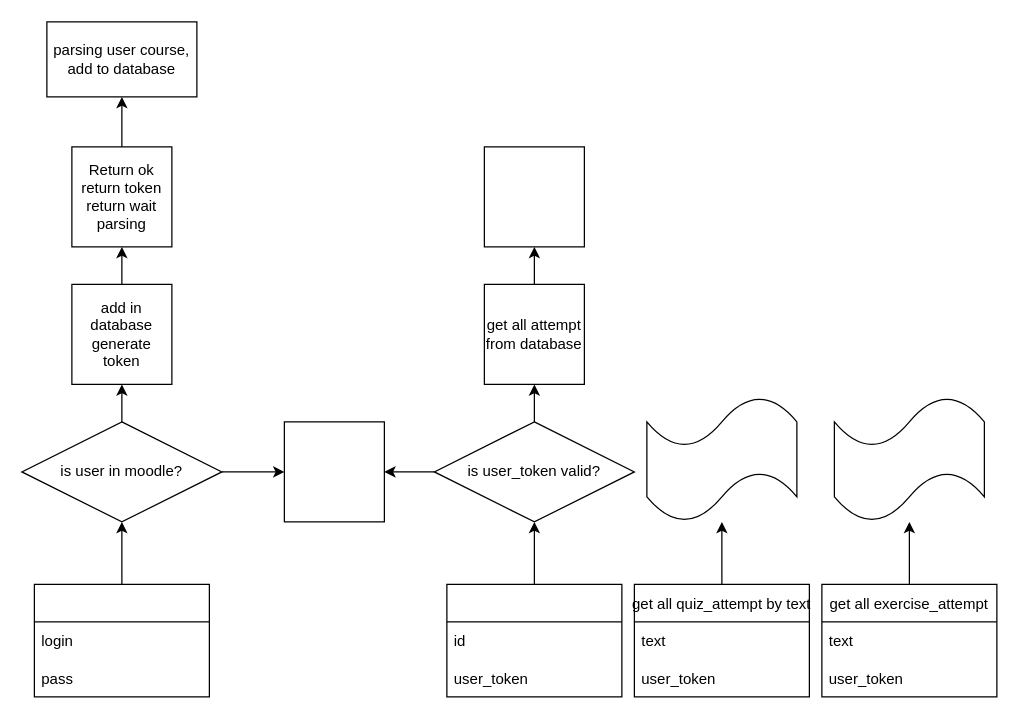
Some shapes in this 1019 by 719 pixel diagram are drawn without their labels. Here are the shapes that lost their labels. From the top down, the box of each, then its label:
(483, 146, 584, 247): return all attempt
(283, 421, 384, 522): nahui idi
(33, 583, 209, 697): post authorization
(446, 583, 622, 697): get all quiz_attempt
